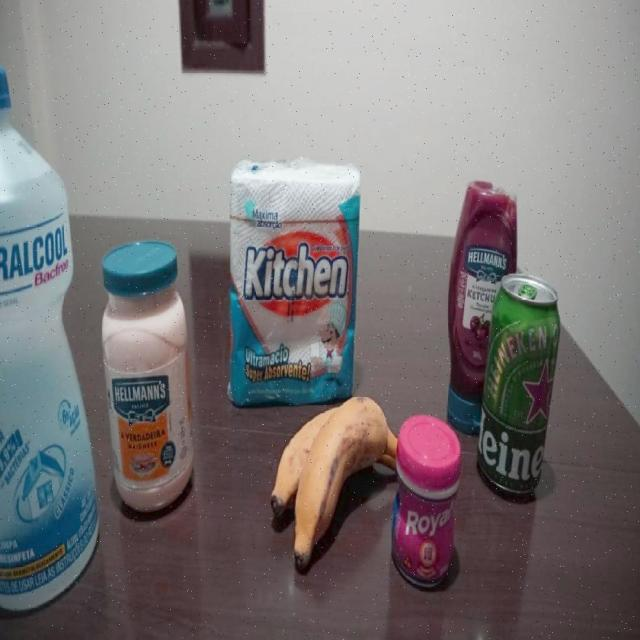AlcoholBottle: (1, 66, 99, 608)
Banana: (270, 398, 388, 571)
BeerCan: (486, 281, 563, 493)
Ketchup: (444, 168, 486, 402)
Mayonnaise: (101, 240, 195, 514)
Napkin: (232, 156, 355, 400)
Yeast: (393, 409, 459, 579)
